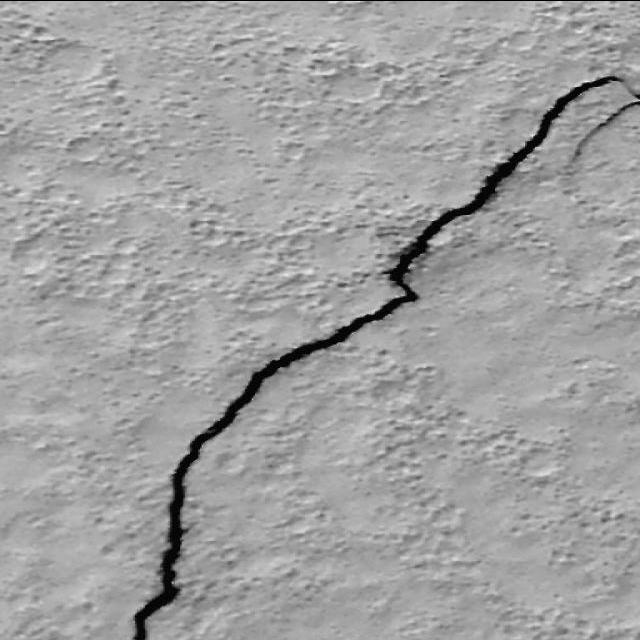SurfaceCrack: (58, 9, 638, 639)
